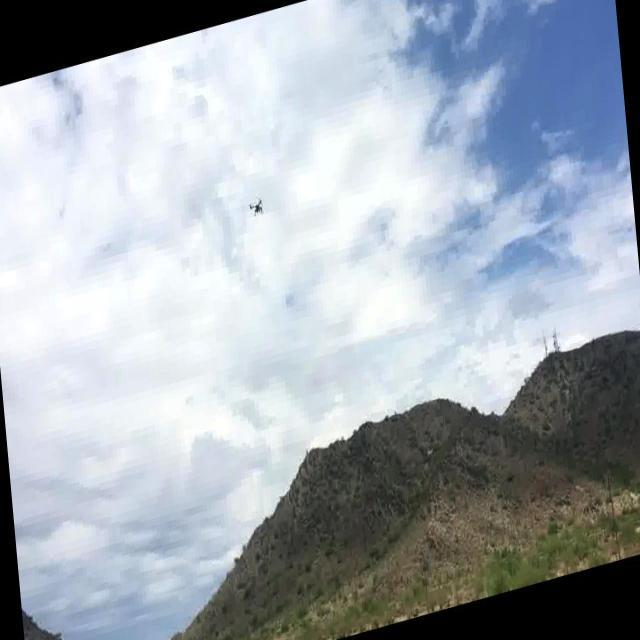drone: (244, 188, 266, 223)
